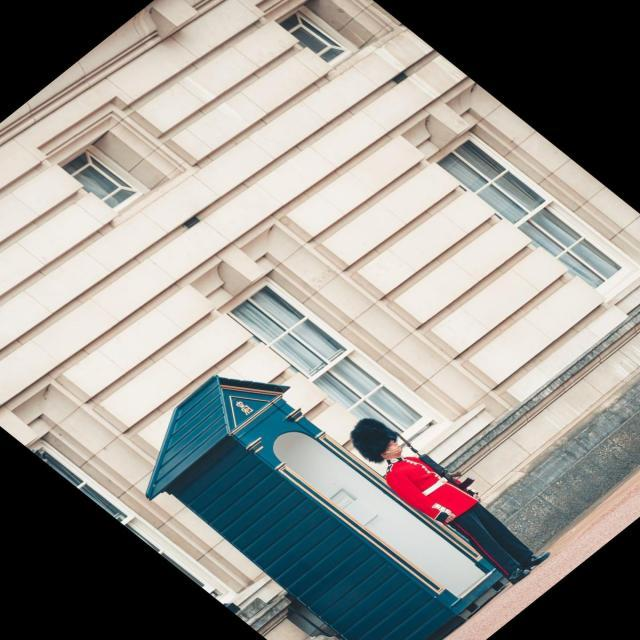weapon: (394, 432, 479, 498)
